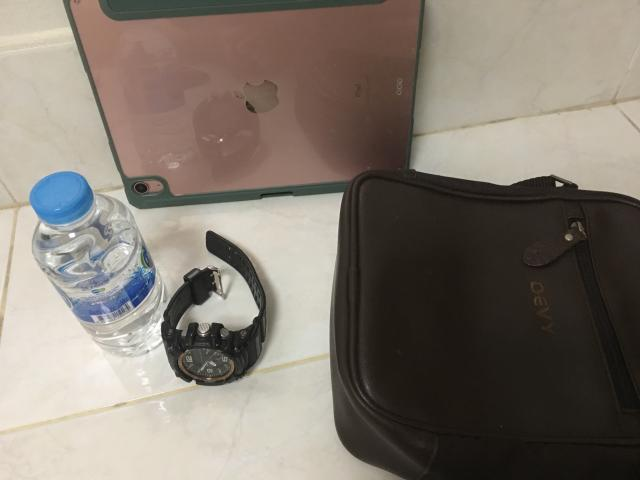Watch: (161, 231, 266, 385)
bottle: (30, 171, 164, 356)
